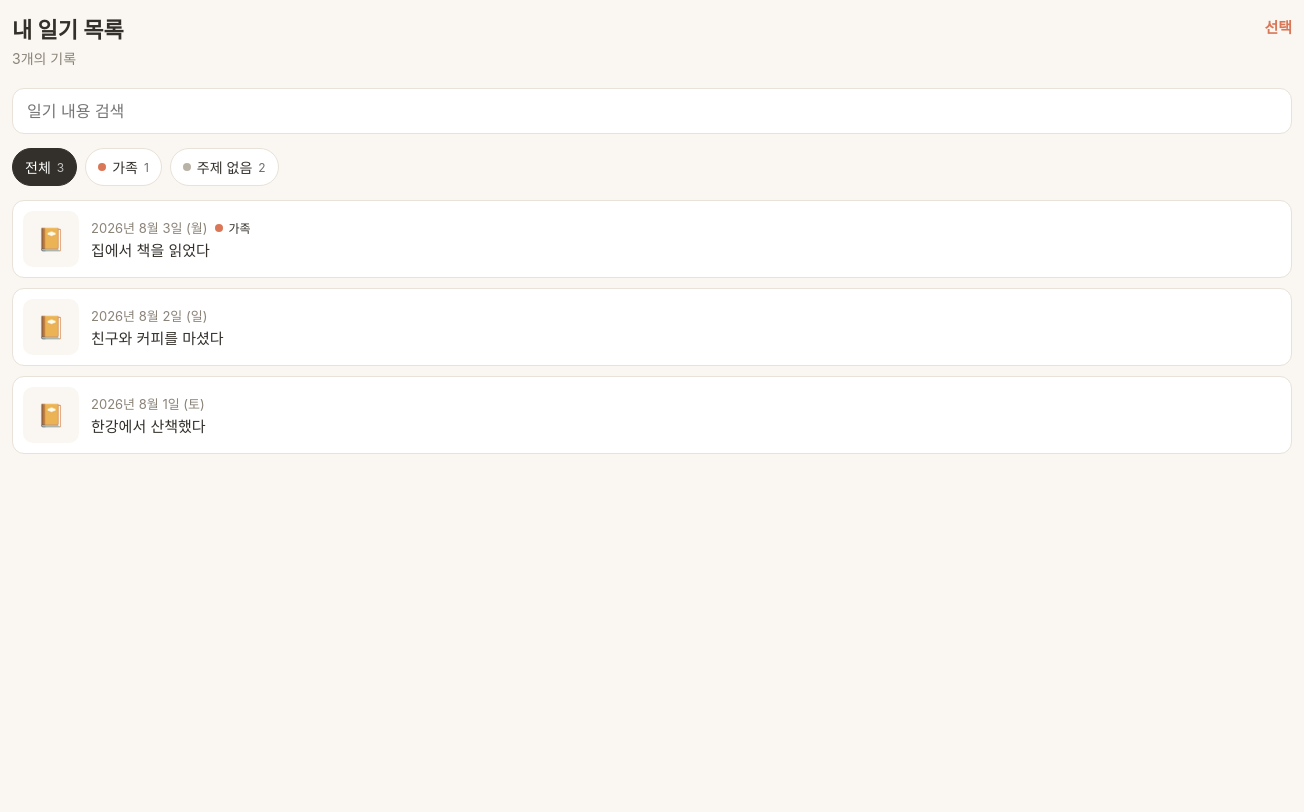
ListPage 선택 삭제 › 두 개 이상을 골라 한꺼번에 삭제한다
The image size is (1304, 812).
expect the text "3개의 기록" is shown: met, box [12,50,76,67]
Click the button "선택": click(1278, 26) [1264,12,1292,41]
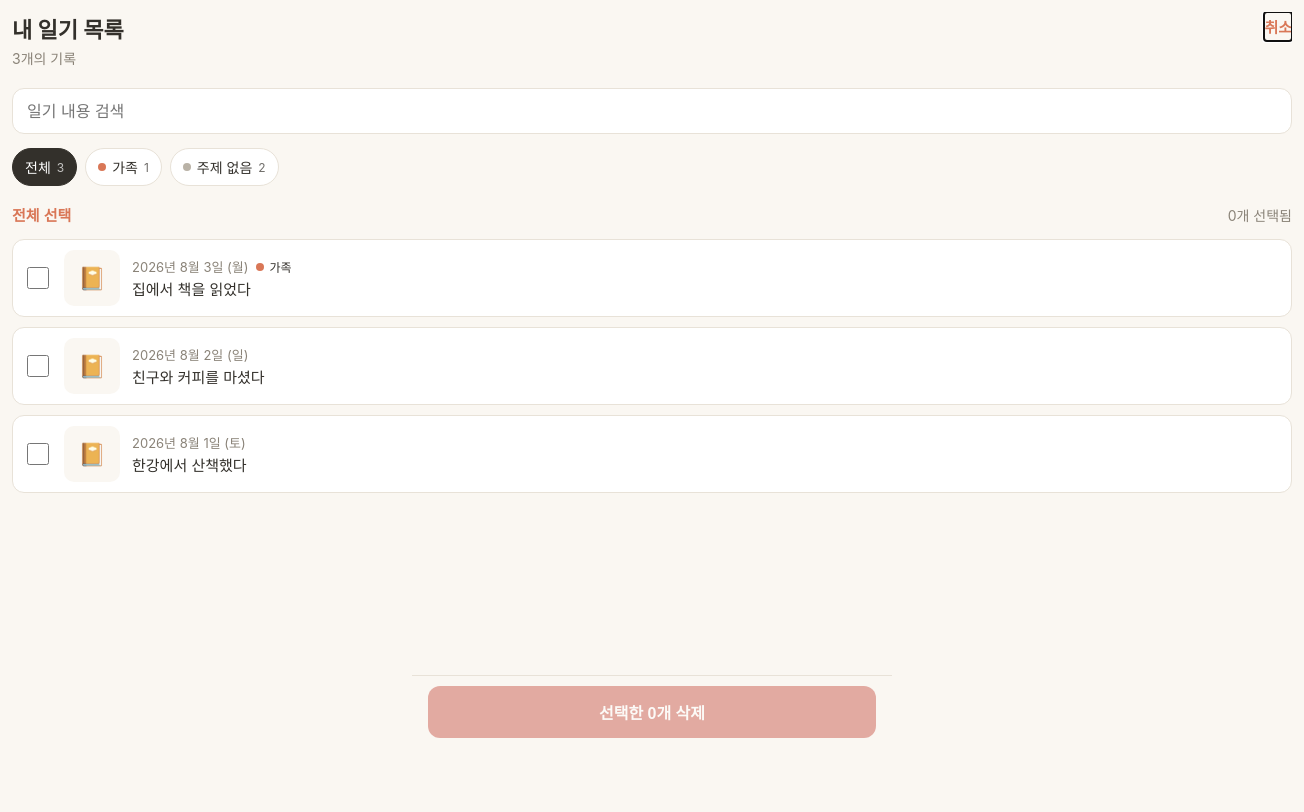
Click the checkbox named "2026년 8월 1일 (토) 선택": click(38, 454) [27,443,49,465]
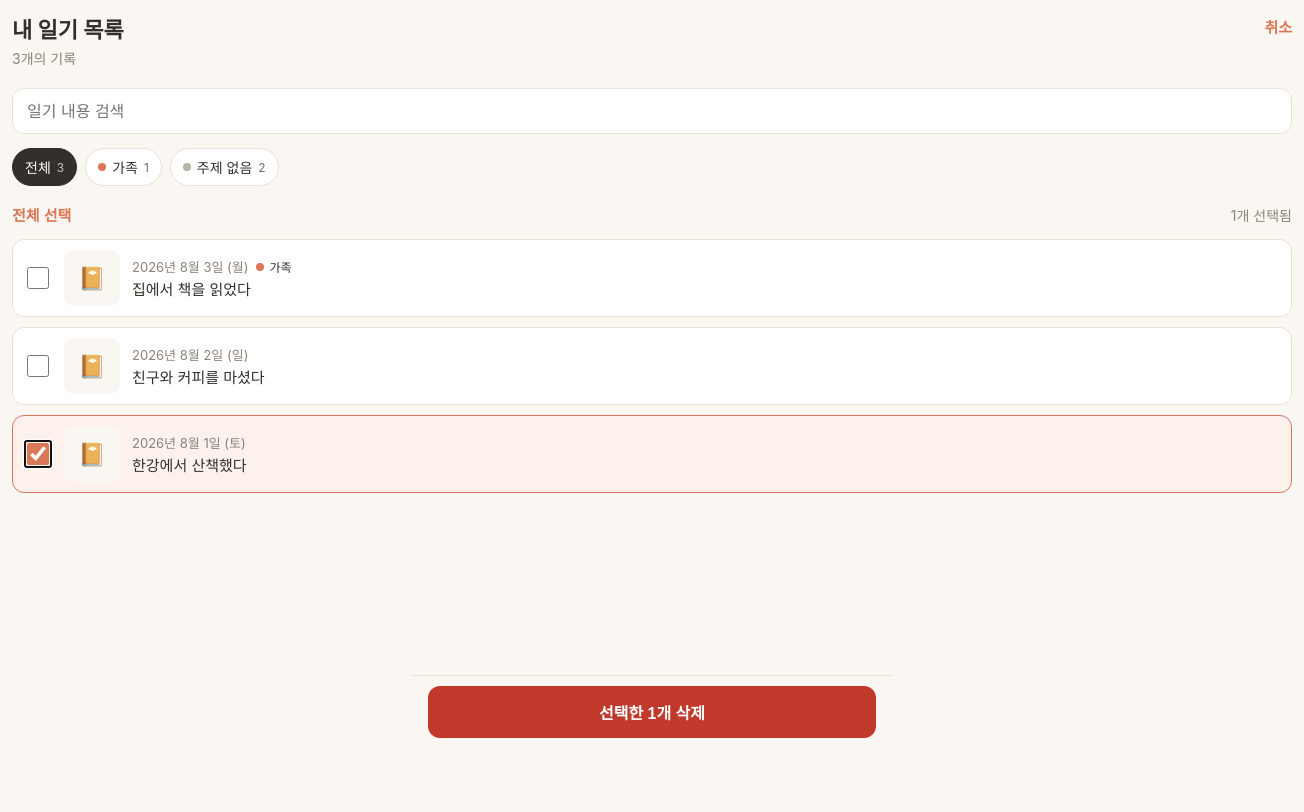
Click the checkbox named "2026년 8월 3일 (월) 선택": click(38, 278) [27,267,49,289]
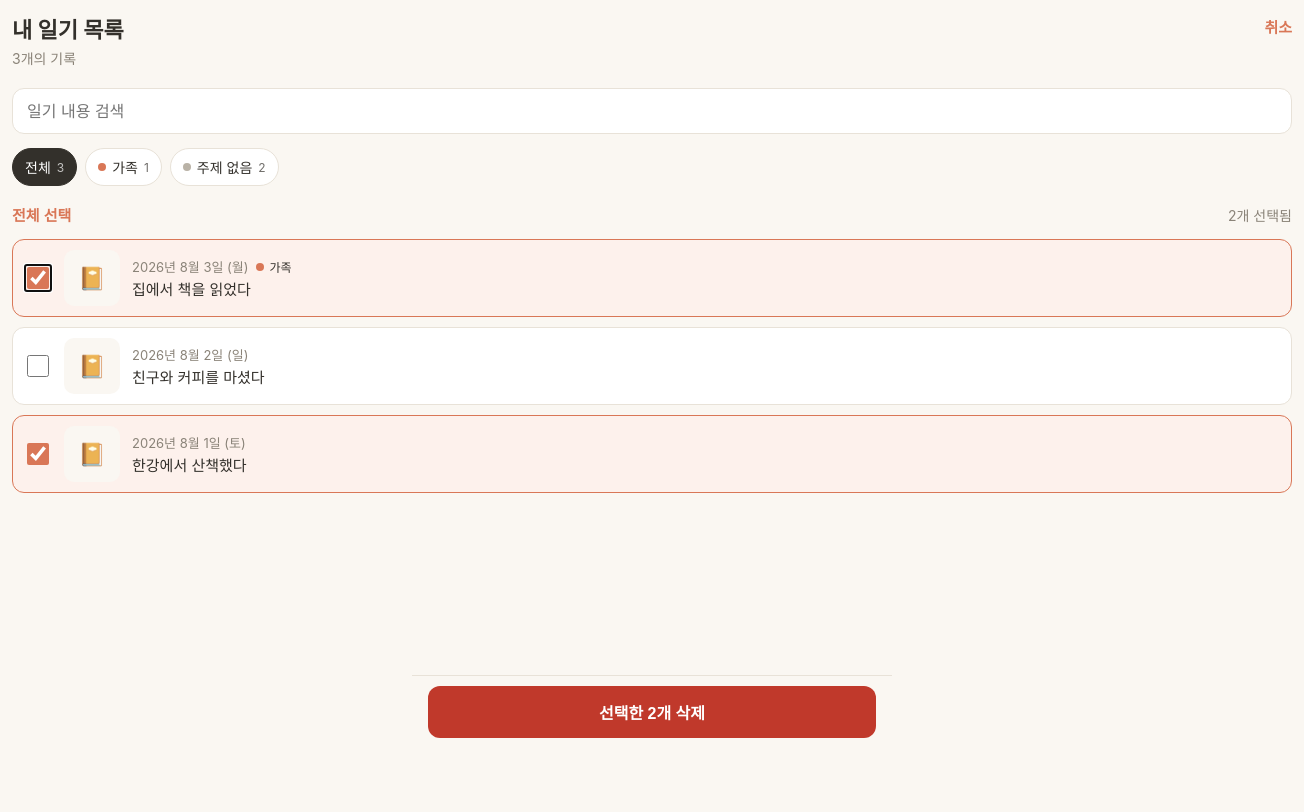
expect the text "2개 선택됨" is shown: met, box [1228,204,1292,224]
Click the button "선택한 2개 삭제": click(652, 712) [428,686,876,738]
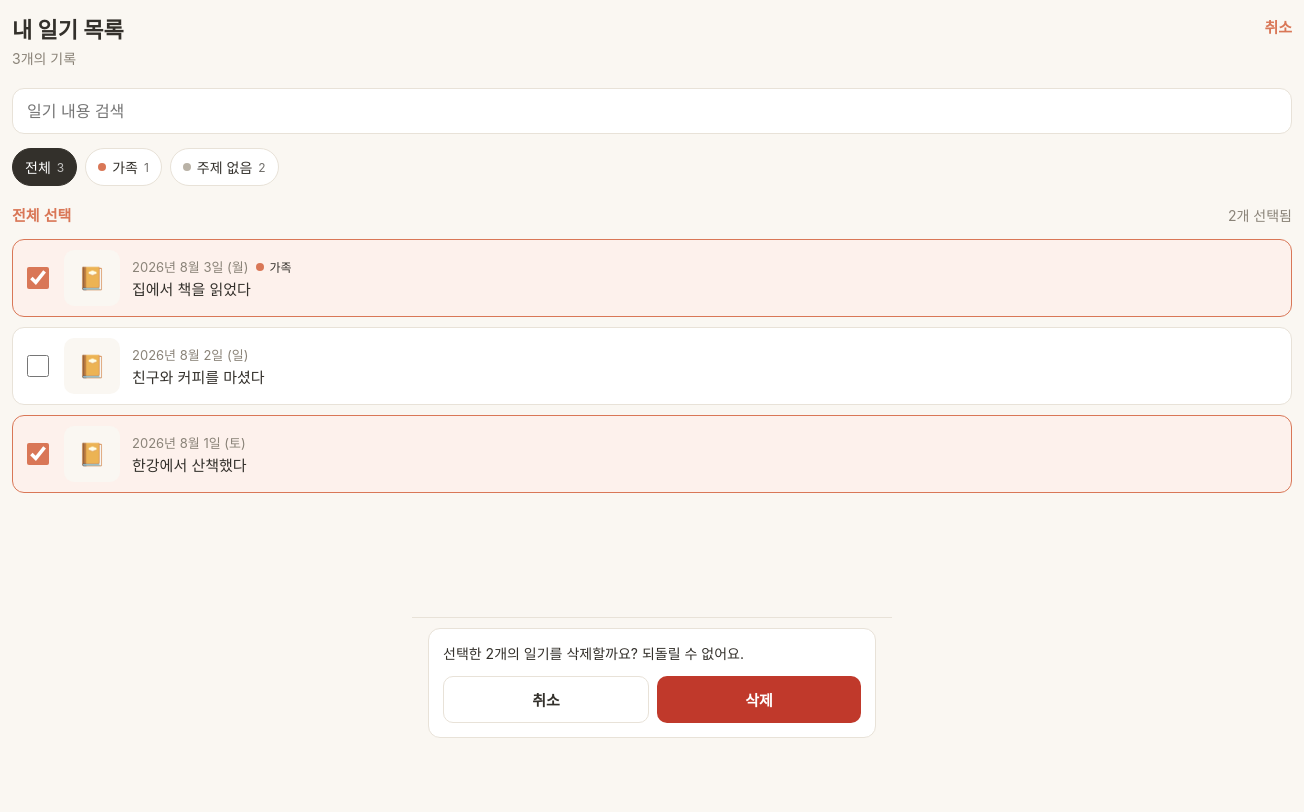
expect the text "선택한 2개의 일기를 삭제할까요? 되돌릴 수 없어요." is shown: met, box [443,645,744,662]
Click the button "삭제": click(759, 700) [657,676,861,723]
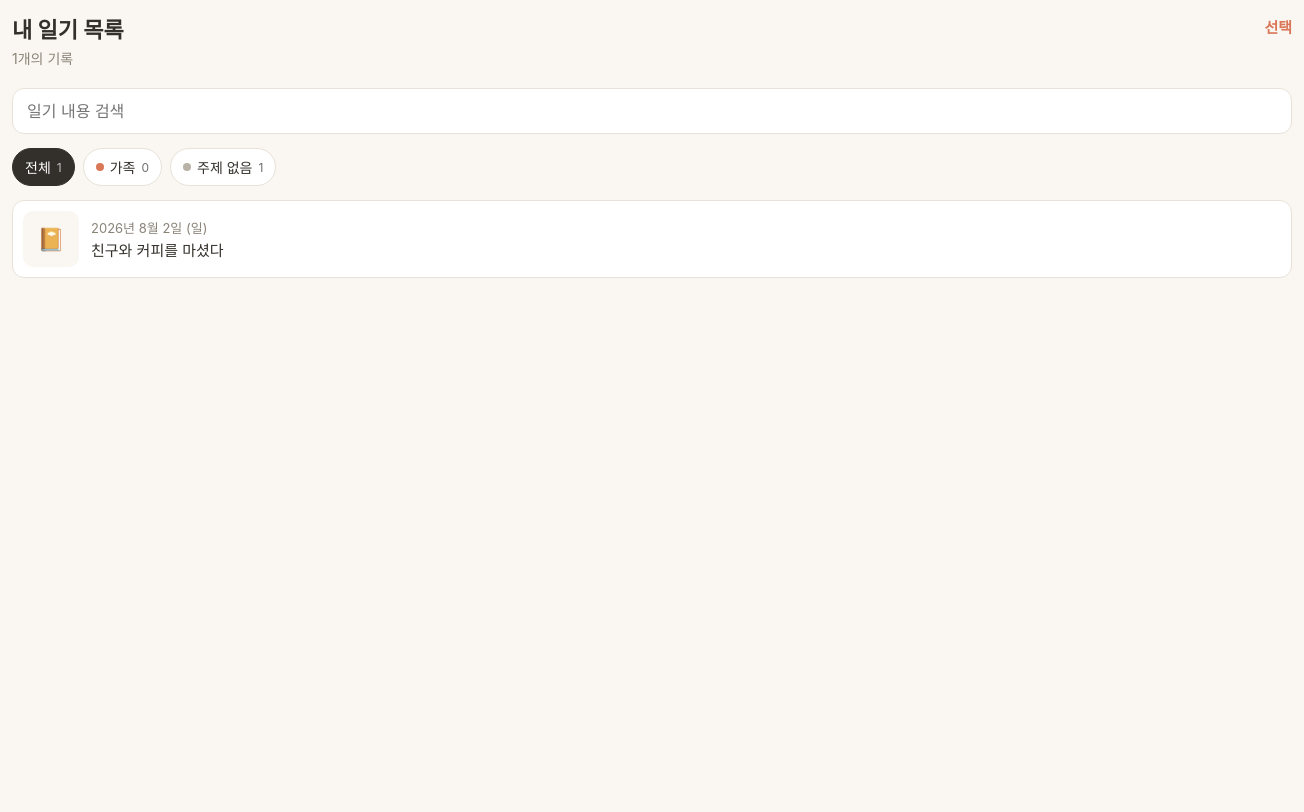
expect the button "선택한 2개 삭제" is not shown: met
expect the text "1개의 기록" is shown: met, box [12,50,73,67]
